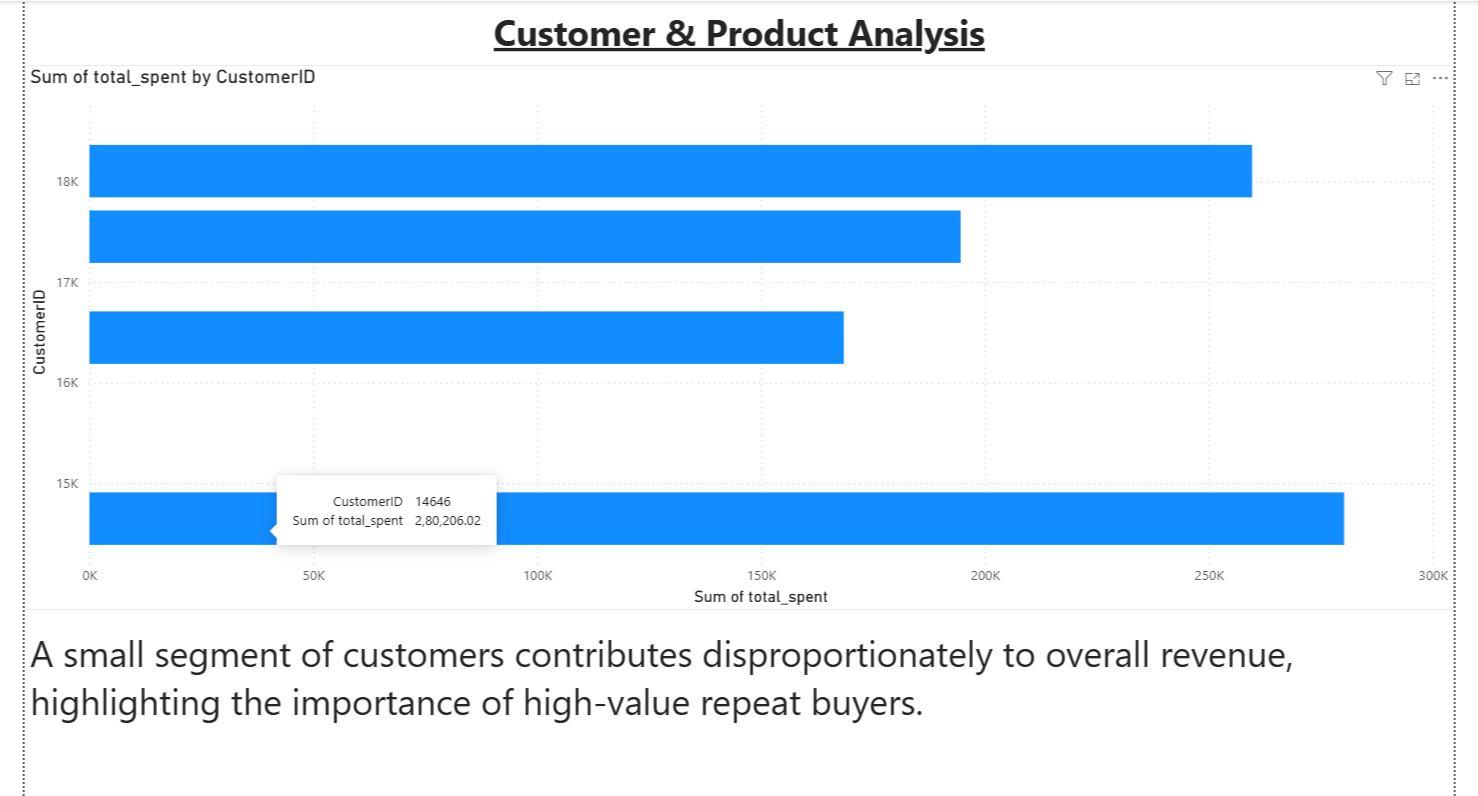

What the dashboard file says about the page in this screenshot:
{"tool":"powerbi","page":{"name":"Page 3","canvas":[1280,720],"ordinal":2},"visuals":[{"type":"textbox","box":[0,0,1280,57.1],"z":0},{"type":"clusteredBarChart","fields":{"Category":["Top customers.CustomerID"],"Y":["Sum(Top customers.total_spent)"]},"box":[0,57.1,1280,488.6],"z":1},{"type":"textbox","box":[0,555.7,1181.4,164.3],"z":2}]}

Visuals, with their boxes on the page's 1280x720 design canvas (x1, y1, x2, y2). These are canvas units, not pixel positions in the 1478x796 screenshot, which may show the page scaled, cropped or inside an application window:
textbox: <box>0,0,1280,57</box>
clusteredBarChart - Top customers.CustomerID x Sum(Top customers.total_spent): <box>0,57,1280,546</box>
textbox: <box>0,556,1181,720</box>
